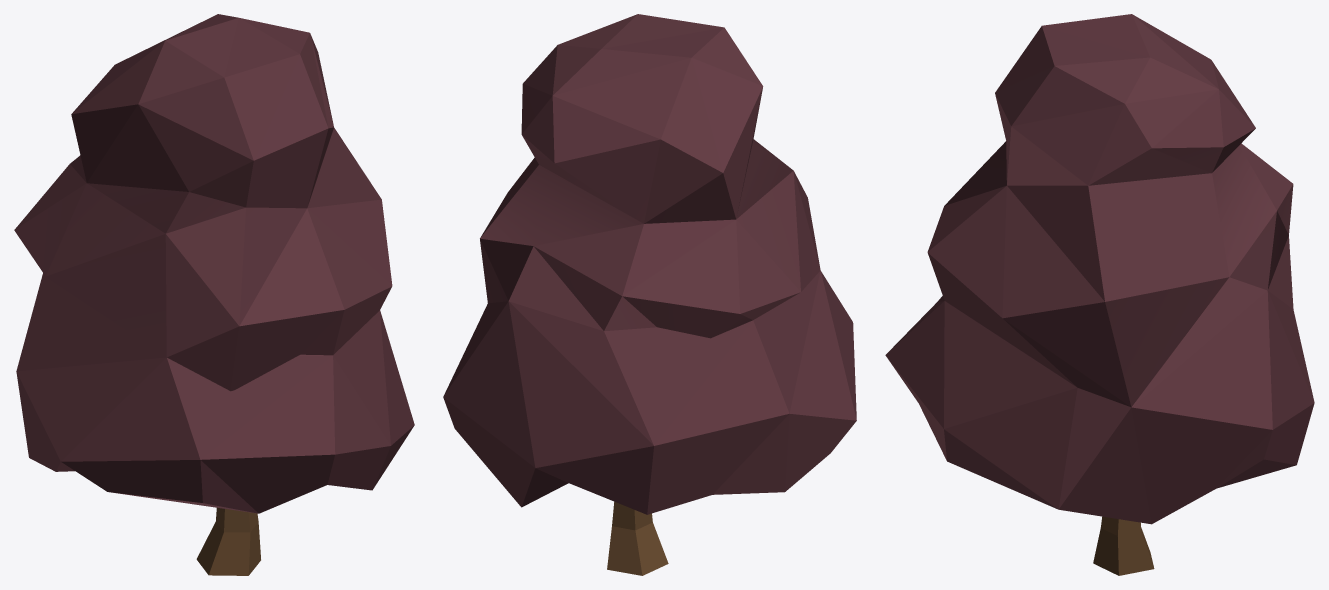
The model's file is bush-medium-high.fbx.
3 views of the same model, side by side, from view 1: azimuth 30°, elevation 25°; view 2: azimuth 150°, elevation 25°; view 3: azimuth 270°, elevation 25° (orthographic). The views are drawn at different scales.
Parts seen in each view (by area): view 1: bush-medium-high; view 2: bush-medium-high; view 3: bush-medium-high.
Boxes of the visible parts, left/top/right/bottom form: bush-medium-high: left=14, top=14, right=414, bottom=575; bush-medium-high: left=443, top=14, right=856, bottom=575; bush-medium-high: left=885, top=14, right=1314, bottom=575.
Size of the model in its own units: 1.38 by 2.02 by 1.51.
